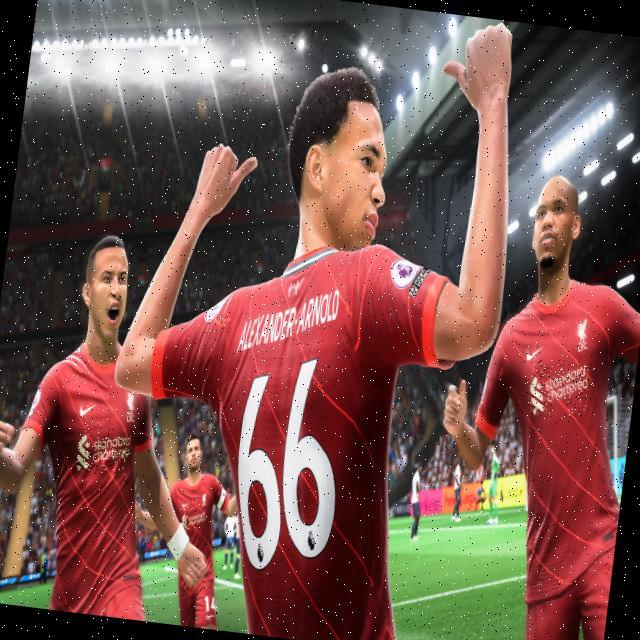Nike: (526, 344, 544, 363), (79, 402, 97, 419), (205, 614, 215, 621), (181, 502, 188, 508)
Standard Chartered: (527, 357, 591, 421), (75, 429, 132, 476), (181, 508, 207, 531)
